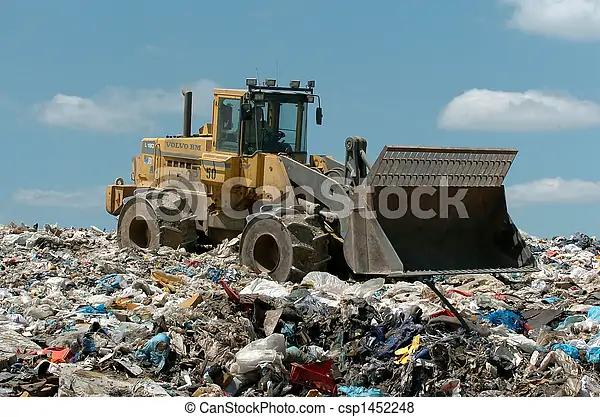garbage: (0, 223, 600, 417)
